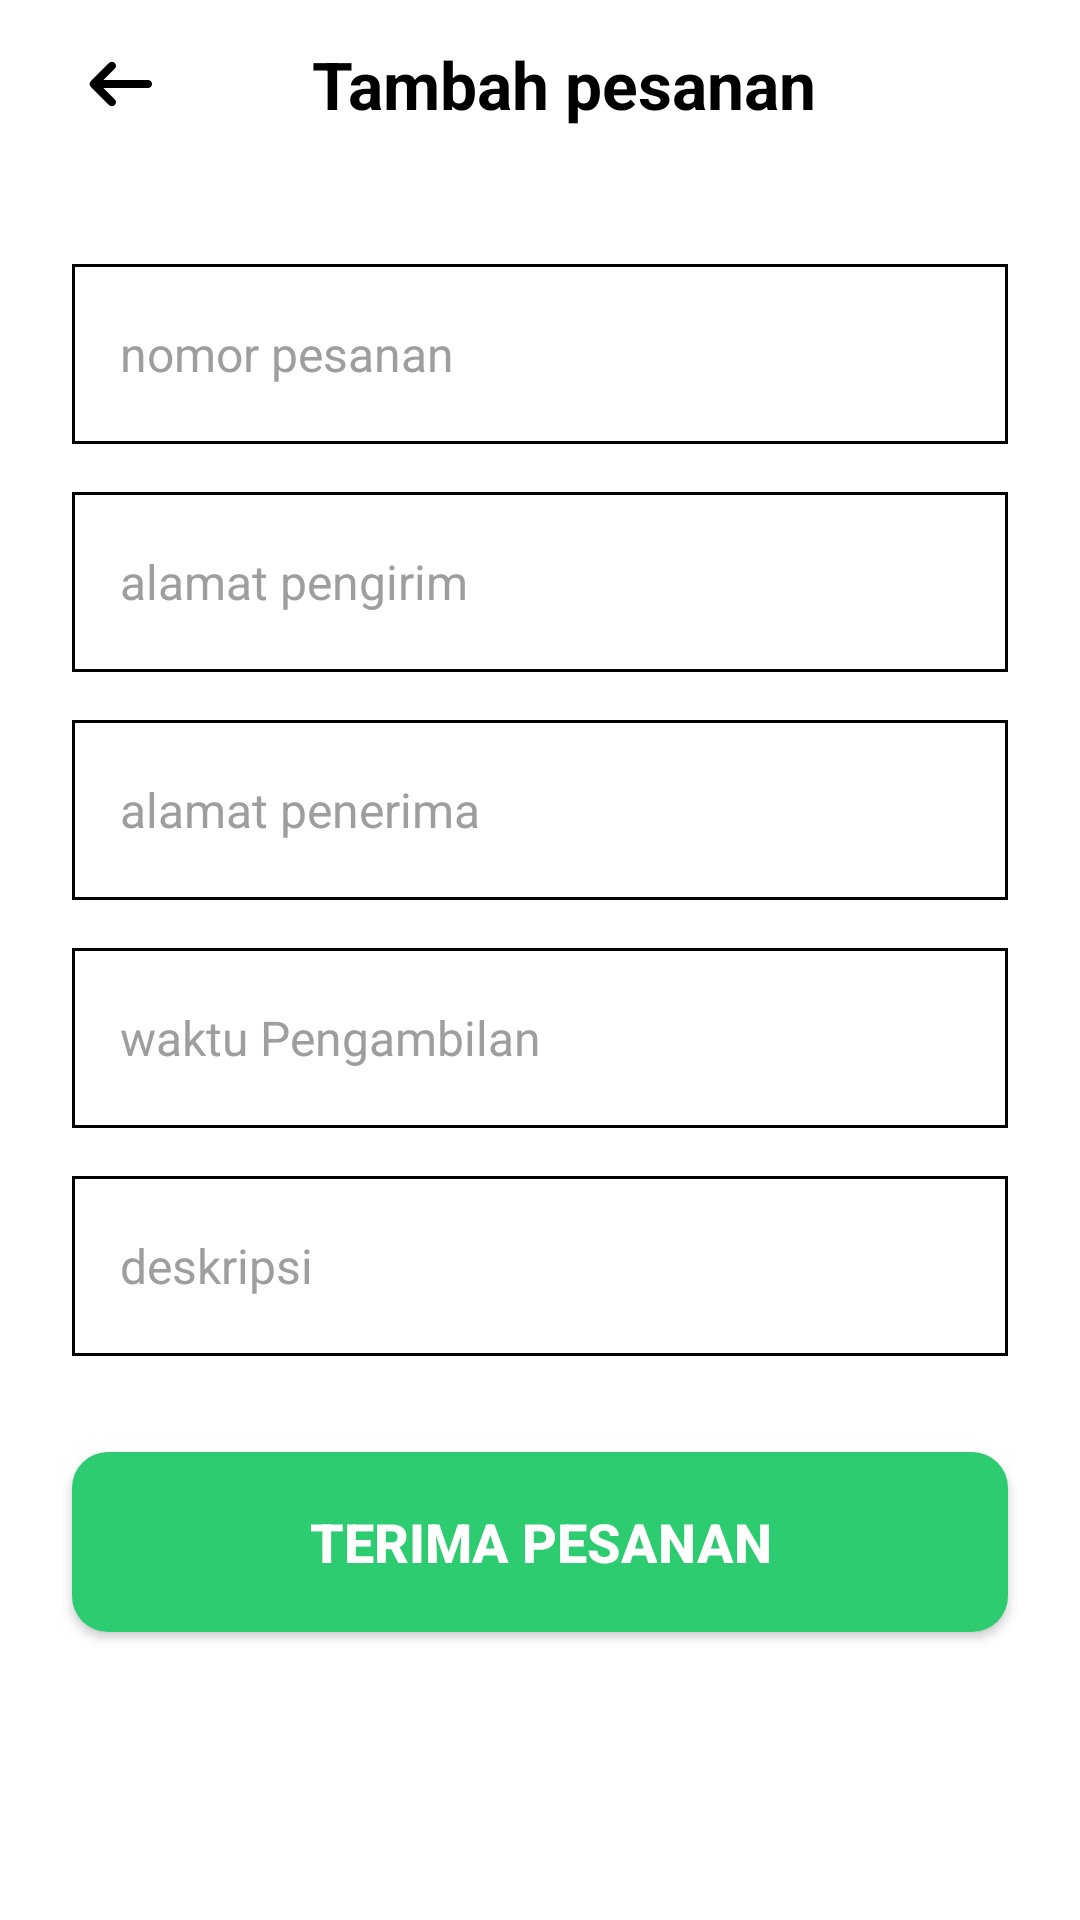

Named icons in this screenshot (1080 × 1920) and their bounding boxes, {"x1": x1, "y1": y1, "x2": x2, "y2": y2}:
arrowback: {"x1": 89, "y1": 61, "x2": 152, "y2": 107}
